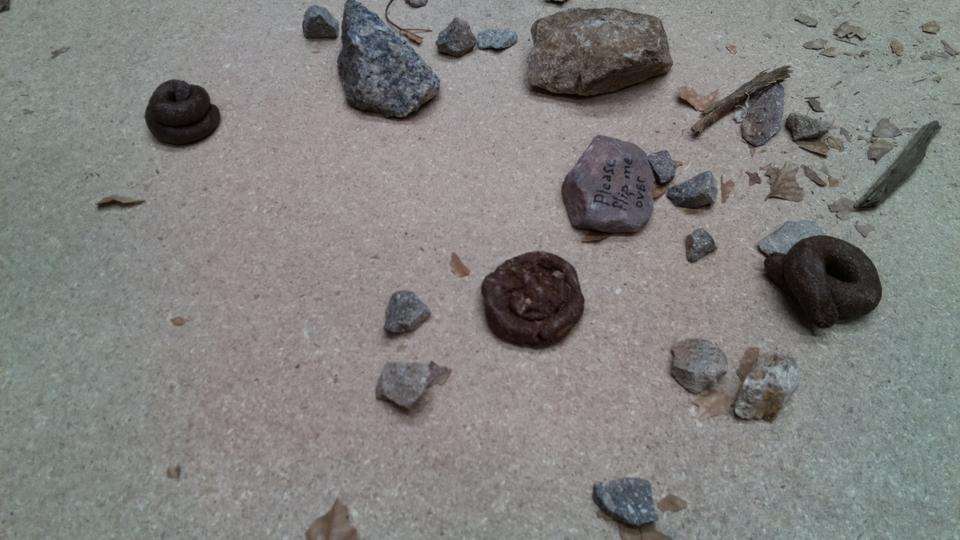poop: (761, 232, 884, 331), (479, 248, 587, 351), (143, 77, 224, 149)
